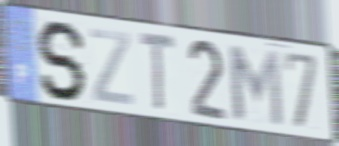2: (188, 38, 227, 123)
7: (282, 48, 320, 132)
M: (225, 41, 286, 129)
S: (35, 18, 89, 104)
T: (137, 28, 178, 115)
Z: (87, 26, 135, 108)
